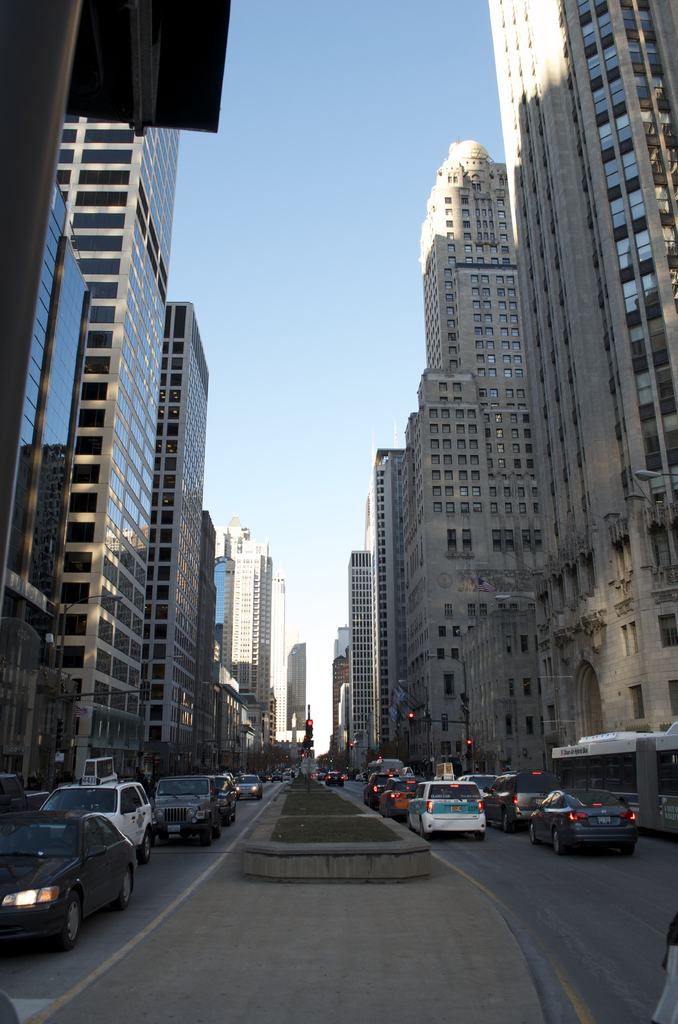Car: (0, 807, 138, 951), (523, 783, 642, 858), (481, 767, 560, 835), (401, 781, 487, 837), (189, 774, 234, 823), (376, 774, 425, 819), (359, 772, 392, 808), (233, 775, 263, 800), (453, 775, 499, 789), (325, 772, 343, 786)
